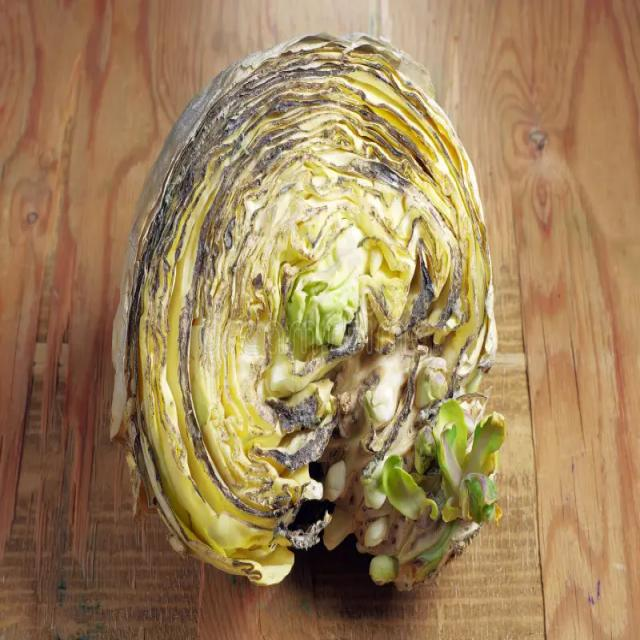rotten cabbage: (90, 8, 544, 613)
